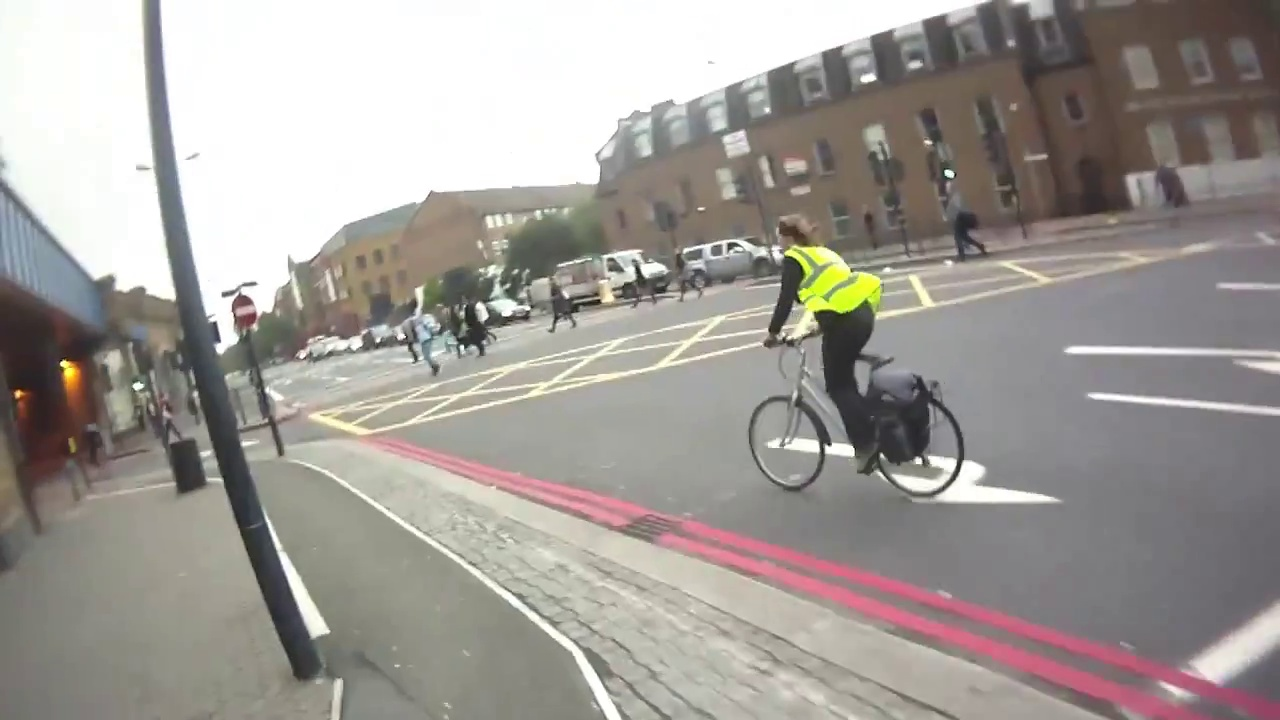cyclist_side: (738, 214, 970, 496)
